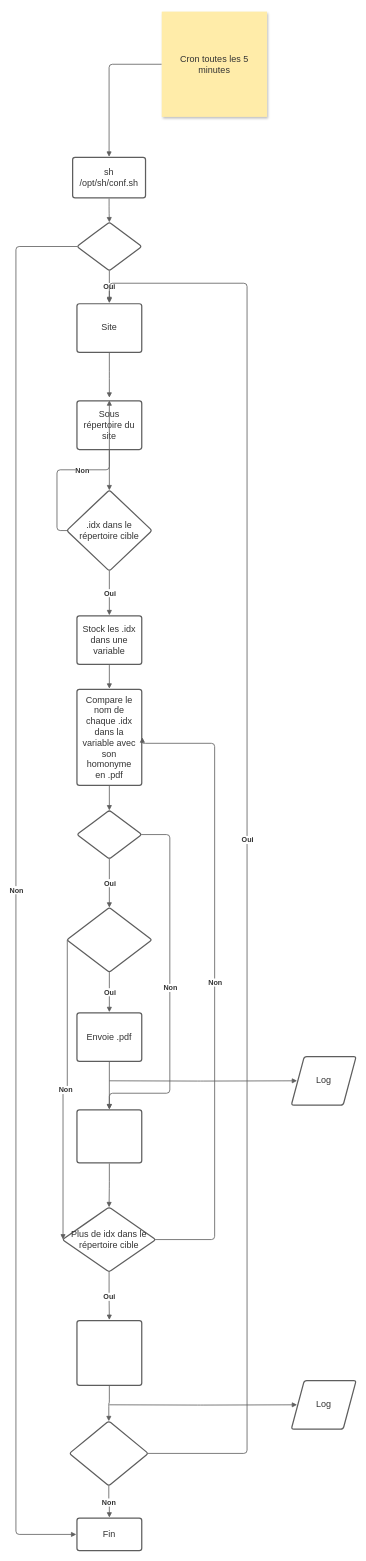
Some shapes in this 366 by 1561 pixel diagram are drawn without their labels. The shapes that lost their labels are listed below. From the top down, each one's centre as x and y in pixels, then its label:
At pixel 109 246: "Fichier présents".
At pixel 109 834: ".pdf existe".
At pixel 109 940: "Depuis plus de 5minutes".
At pixel 109 1136: "Move .idx dans un dossier spécifique".
At pixel 109 1353: "msend * dans le dossier spécifique".
At pixel 109 1453: "Site avec fichiers présents".
